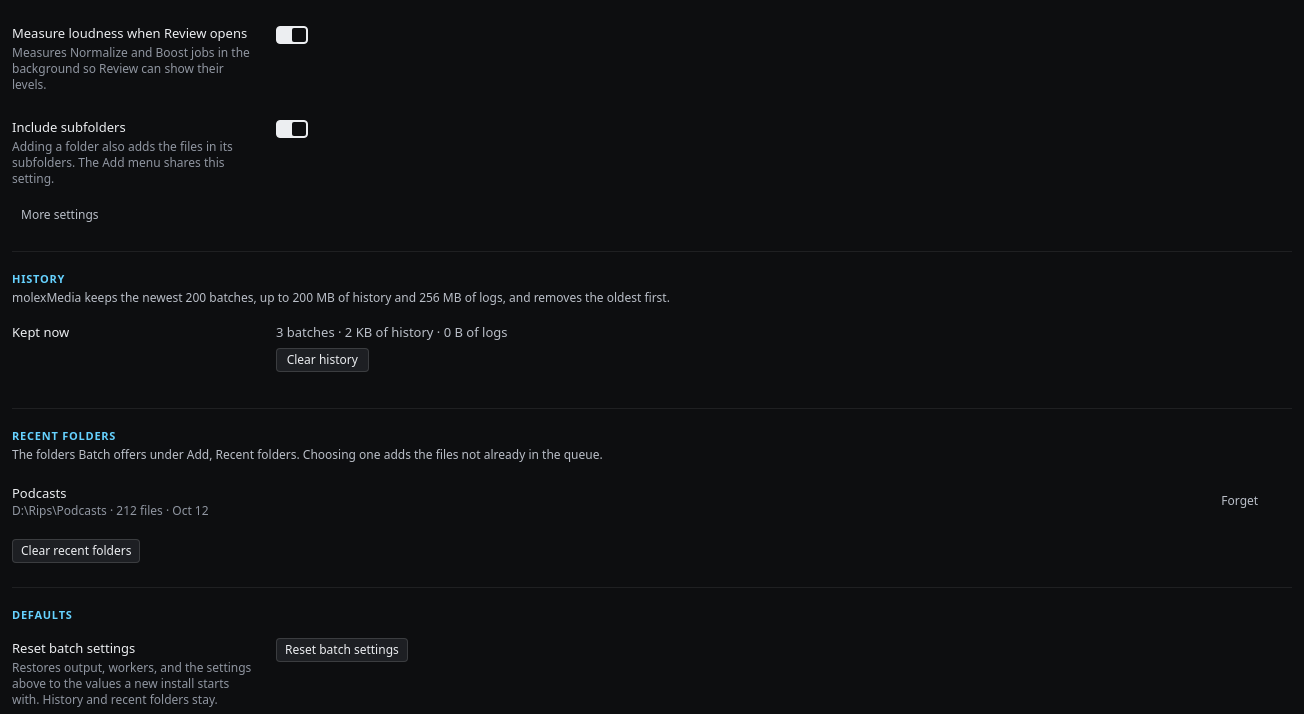
Test: BatchSettings › shows history usage and clears it through runs:delete
(page scrolled)
Expected: the text "3 batches · 2 KB of history · 0 B of logs" is shown, x1=276 y1=323 x2=508 y2=341
Click the button "Clear history". click: (322, 360)
box: x1=276 y1=348 x2=368 y2=372
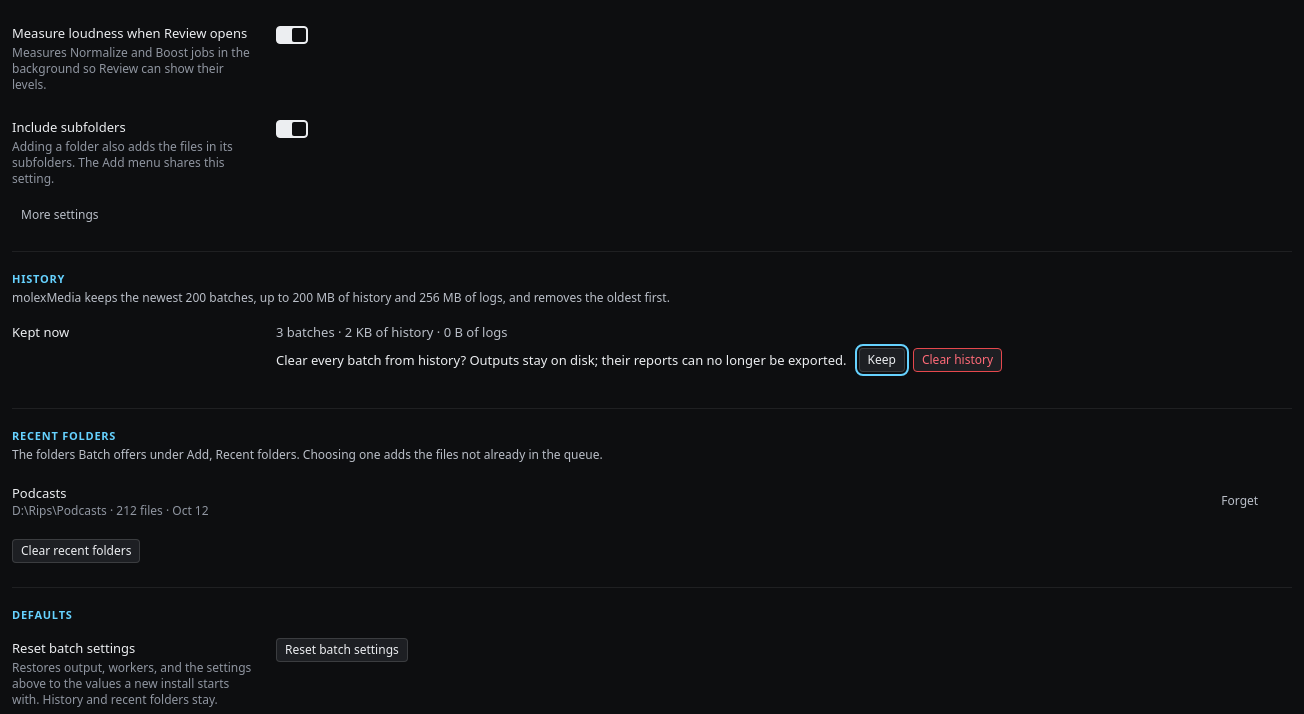
Result: the element "Clear every batch from history" is shown at x1=276 y1=348 x2=1002 y2=372
Click the button "Clear history". click: (958, 360)
box: x1=913 y1=348 x2=1002 y2=372
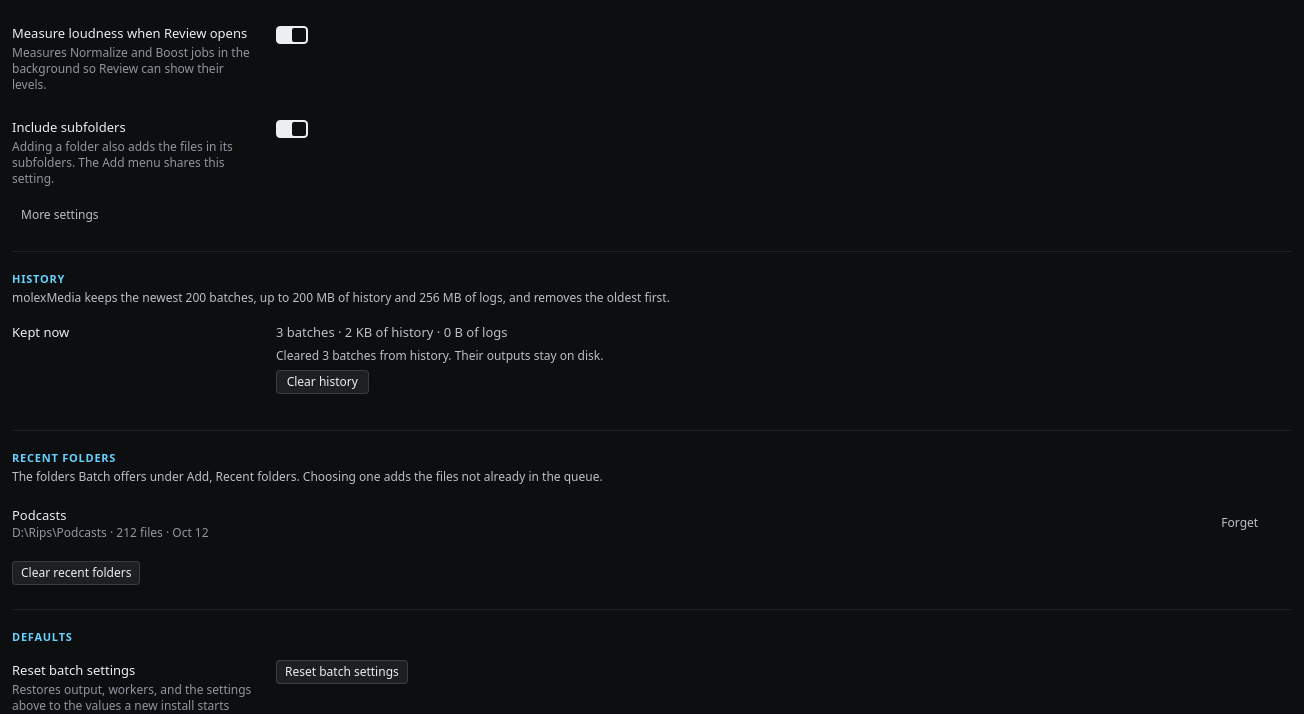
Result: the text "Cleared 3 batches from history. Their outputs stay on disk." is shown at x1=276 y1=347 x2=603 y2=364
